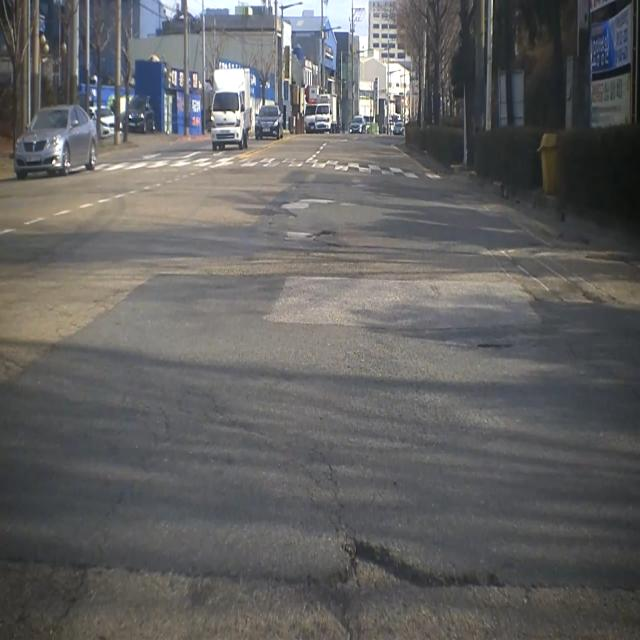Pothole: (312, 538, 500, 640), (316, 224, 338, 244)
